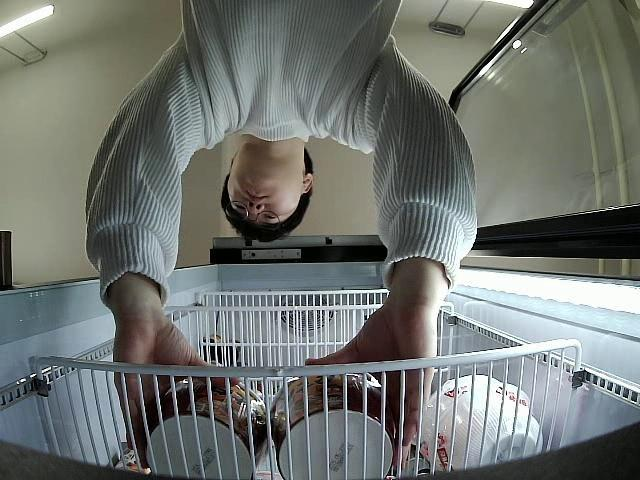05_nuguri_L: (272, 365, 399, 480), (148, 371, 270, 480)
